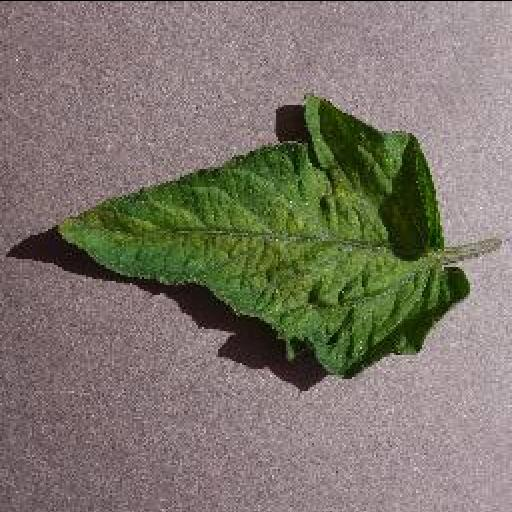disease_tomato: (50, 94, 472, 380)
